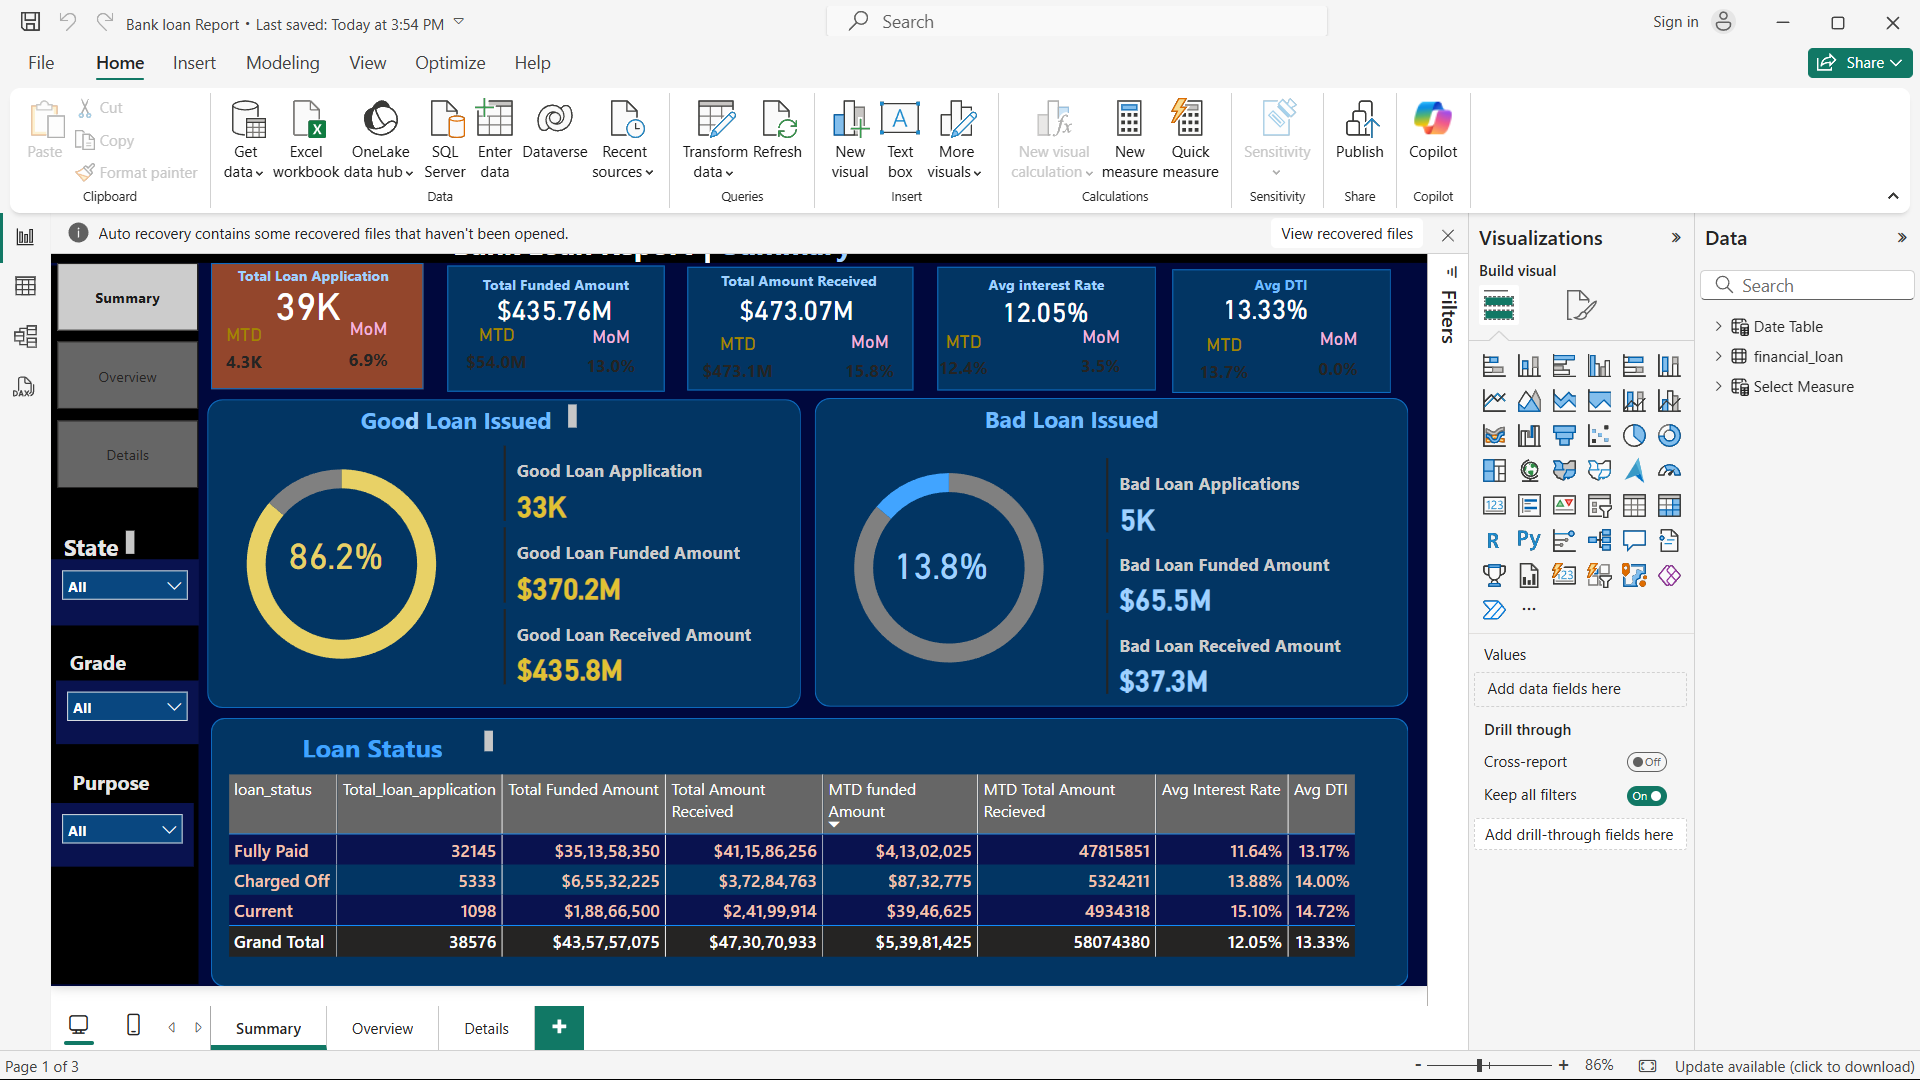

What the dashboard file says about the page in this screenshot:
{"tool":"powerbi","page":{"name":"Summary","canvas":[1280,720],"ordinal":0},"visuals":[{"type":"shape","box":[0,0,1280,46.7],"z":0},{"type":"shape","box":[0,48.8,137.2,668.6],"z":1000},{"type":"textbox","box":[368.3,0,543.3,68.3],"z":2000},{"type":"shape","box":[148.8,46.5,197.7,117.4],"z":3000},{"type":"card","fields":{"Values":["financial_loan.Total_loan_application"]},"box":[180,61,118,47],"z":4000},{"type":"textbox","box":[125.6,44.2,237.2,47.7],"z":5000},{"type":"card","title":"MTD","fields":{"Values":["financial_loan.MTD Loan Applicaton"]},"box":[126,104,108,55],"z":6000},{"type":"card","title":"MoM","fields":{"Values":["financial_loan.MoM Loan application"]},"box":[438,103,103,54],"z":7000},{"type":"shape","box":[368.6,48.8,202.3,117.4],"z":8000},{"type":"textbox","box":[369.8,52.3,200,31.4],"z":9000},{"type":"card","fields":{"Values":["financial_loan.Total Funded Amount"]},"box":[380.2,66.3,176.7,46.5],"z":10000},{"type":"card","title":"MTD","fields":{"Values":["financial_loan.MTD funded Amoutn"]},"box":[360.5,103.5,108.1,54.7],"z":11000},{"type":"card","title":"MoM","fields":{"Values":["financial_loan.MoM Loan application"]},"box":[244.2,97.7,102.3,61.6],"z":12000},{"type":"shape","box":[145.3,173.3,552.3,287.2],"z":13000},{"type":"card","title":"MoM","fields":{"Values":["financial_loan.Mom Total Funded Amount"]},"box":[469.8,104.7,102.3,60.5],"z":14000},{"type":"shape","box":[591.9,50,210.5,115.1],"z":15000},{"type":"card","fields":{"Values":["financial_loan.Total Amount Received"]},"box":[604.7,66.3,177.9,46.5],"z":16000},{"type":"card","title":"MTD","fields":{"Values":["financial_loan.Total Amount Received"]},"box":[584.9,111.6,108.1,54.7],"z":17000},{"type":"card","title":"MoM","fields":{"Values":["financial_loan.MoM Total Amount Recieved"]},"box":[710.5,109.3,102.3,60.5],"z":18000},{"type":"shape","box":[824.4,50,203.5,115.1],"z":19000},{"type":"card","fields":{"Values":["financial_loan.Avg Interest Rate"]},"box":[836,68.6,177.9,46.5],"z":20000},{"type":"card","title":"MTD","fields":{"Values":["financial_loan.MTD avg Int Rate"]},"box":[786,109.3,125.6,54.7],"z":21000},{"type":"card","title":"MoM","fields":{"Values":["financial_loan.MoM Avg Int Rate"]},"box":[925.6,104.7,102.3,60.5],"z":22000},{"type":"textbox","box":[595.4,48.8,204.7,34.9],"z":23000},{"type":"textbox","box":[827.9,52.3,200,32.6],"z":24000},{"type":"shape","box":[1043,52.3,203.5,115.1],"z":25000},{"type":"textbox","box":[1041.9,52.3,204.7,34.9],"z":26000},{"type":"card","fields":{"Values":["financial_loan.Avg DTI"]},"box":[1040.7,65.1,177.9,46.5],"z":27000},{"type":"card","title":"MTD","fields":{"Values":["financial_loan.MTD Avg Dti"]},"box":[1037.2,112.8,108.1,54.7],"z":28000},{"type":"card","title":"MoM","fields":{"Values":["financial_loan.MoM Avg DTI"]},"box":[1146.5,107,102.3,60.5],"z":29000},{"type":"shape","box":[710.5,172.1,552.3,287.2],"z":30000},{"type":"donutChart","fields":{"Category":["financial_loan.Good v Bad Loan"],"Y":["financial_loan.Total_loan_application"]},"box":[145.3,211.6,250,230.2],"z":31000},{"type":"card","fields":{"Values":["financial_loan.Good Loan %"]},"box":[205.8,294.2,118.6,44.2],"z":32000},{"type":"textbox","box":[267.4,173.3,226.7,34.9],"z":33000},{"type":"cardVisual","fields":{"Data":["financial_loan.Good Loan Application","financial_loan.Good Loan Funded Amount","financial_loan.Good Loan Received Amount"]},"box":[416.3,211.6,281.4,233.7],"z":34000},{"type":"donutChart","fields":{"Category":["financial_loan.Good v Bad Loan"],"Y":["financial_loan.Total_loan_application"]},"box":[710.5,215.1,250,230.2],"z":35000},{"type":"textbox","box":[753.5,172.1,391.9,43],"z":36000},{"type":"card","fields":{"Values":["financial_loan.Bad Loan %"]},"box":[768.6,294.2,118.6,62.8],"z":37000},{"type":"cardVisual","fields":{"Data":["financial_loan.Bad Loan Applications","financial_loan.Bad Loan Funded Amount","financial_loan.Bad Loan Received Amount"]},"box":[976.7,223.3,284.9,231.4],"z":38000},{"type":"textbox","box":[169.8,470.9,203.5,46.5],"z":39000},{"type":"shape","box":[148.8,469.8,1114,250],"z":40000},{"type":"tableEx","fields":{"Values":["financial_loan.loan_status","financial_loan.Total_loan_application","financial_loan.Total Funded Amount","financial_loan.Total Amount Received","financial_loan.MTD funded Amoutn","financial_loan.MTD Total Amount Recieved","financial_loan.Avg Interest Rate","financial_loan.Avg DTI"]},"box":[159.6,517.1,1074.6,203.1],"z":41000},{"type":"textbox","box":[189.5,476.7,226.7,34.9],"z":42000},{"type":"slicer","fields":{"Values":["financial_loan.address_state"]},"box":[0,322.1,137.2,61.6],"z":43000},{"type":"textbox","box":[0,290.7,82.6,34.9],"z":44000},{"type":"slicer","fields":{"Values":["financial_loan.grade"]},"box":[4.7,434.9,132.6,59.3],"z":45000},{"type":"textbox","box":[4.7,400,77.9,34.9],"z":46000},{"type":"slicer","fields":{"Values":["financial_loan.purpose"]},"box":[0,548.8,132.6,59.3],"z":47000},{"type":"textbox","box":[5.8,511.6,100,34.9],"z":48000},{"type":"pageNavigator","box":[5.8,46.5,131.4,210.5],"z":49000}]}

Visuals, with their boxes on the page's 1280x720 design canvas (x1, y1, x2, y2). These are canvas units, not pixel positions in the 1920x1080 screenshot, which may show the page scaled, cropped or inside an application window:
shape: box(0, 0, 1280, 47)
shape: box(0, 49, 137, 717)
textbox: box(368, 0, 912, 68)
shape: box(149, 46, 346, 164)
card - financial_loan.Total_loan_application: box(180, 61, 298, 108)
textbox: box(126, 44, 363, 92)
"MTD" card: box(126, 104, 234, 159)
"MoM" card: box(438, 103, 541, 157)
shape: box(369, 49, 571, 166)
textbox: box(370, 52, 570, 84)
card - financial_loan.Total Funded Amount: box(380, 66, 557, 113)
"MTD" card: box(360, 104, 469, 158)
"MoM" card: box(244, 98, 346, 159)
shape: box(145, 173, 698, 460)
"MoM" card: box(470, 105, 572, 165)
shape: box(592, 50, 802, 165)
card - financial_loan.Total Amount Received: box(605, 66, 783, 113)
"MTD" card: box(585, 112, 693, 166)
"MoM" card: box(710, 109, 813, 170)
shape: box(824, 50, 1028, 165)
card - financial_loan.Avg Interest Rate: box(836, 69, 1014, 115)
"MTD" card: box(786, 109, 912, 164)
"MoM" card: box(926, 105, 1028, 165)
textbox: box(595, 49, 800, 84)
textbox: box(828, 52, 1028, 85)
shape: box(1043, 52, 1246, 167)
textbox: box(1042, 52, 1247, 87)
card - financial_loan.Avg DTI: box(1041, 65, 1219, 112)
"MTD" card: box(1037, 113, 1145, 168)
"MoM" card: box(1146, 107, 1249, 168)
shape: box(710, 172, 1263, 459)
donutChart - financial_loan.Good v Bad Loan x financial_loan.Total_loan_application: box(145, 212, 395, 442)
card - financial_loan.Good Loan %: box(206, 294, 324, 338)
textbox: box(267, 173, 494, 208)
cardVisual - financial_loan.Good Loan Application x financial_loan.Good Loan Funded Amount: box(416, 212, 698, 445)
donutChart - financial_loan.Good v Bad Loan x financial_loan.Total_loan_application: box(710, 215, 960, 445)
textbox: box(754, 172, 1145, 215)
card - financial_loan.Bad Loan %: box(769, 294, 887, 357)
cardVisual - financial_loan.Bad Loan Applications x financial_loan.Bad Loan Funded Amount: box(977, 223, 1262, 455)
textbox: box(170, 471, 373, 517)
shape: box(149, 470, 1263, 720)
tableEx - financial_loan.loan_status x financial_loan.Total_loan_application: box(160, 517, 1234, 720)
textbox: box(190, 477, 416, 512)
slicer - financial_loan.address_state: box(0, 322, 137, 384)
textbox: box(0, 291, 83, 326)
slicer - financial_loan.grade: box(5, 435, 137, 494)
textbox: box(5, 400, 83, 435)
slicer - financial_loan.purpose: box(0, 549, 133, 608)
textbox: box(6, 512, 106, 546)
pageNavigator: box(6, 46, 137, 257)
